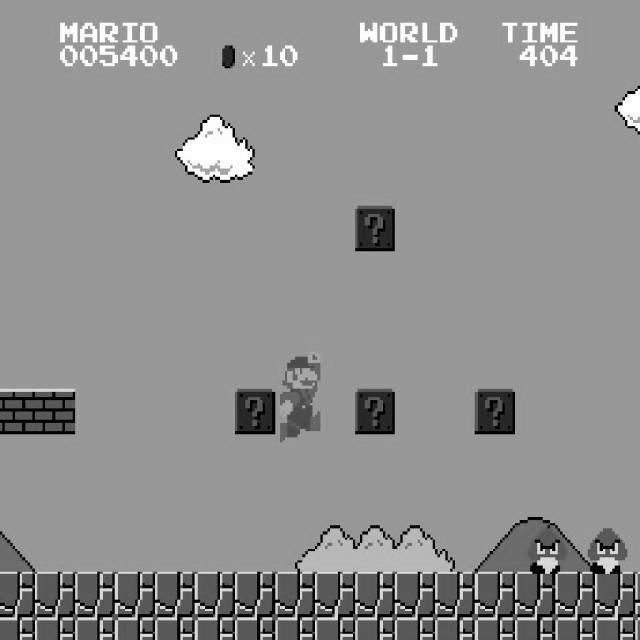0- big_mario: (277, 348, 320, 442)
1- brick_block: (34, 388, 76, 434), (0, 388, 35, 434)
13- mystery_block: (234, 388, 276, 434), (354, 388, 396, 434), (474, 388, 516, 434), (354, 206, 396, 251)
17- undestructible_block: (34, 572, 76, 618), (74, 572, 116, 618), (114, 572, 156, 618), (154, 572, 196, 618), (194, 572, 236, 618), (234, 572, 276, 618), (274, 572, 316, 618), (314, 572, 356, 618), (354, 572, 396, 618), (394, 572, 436, 618), (434, 572, 476, 618), (474, 572, 516, 618), (514, 572, 556, 618), (554, 572, 596, 618), (594, 572, 636, 618), (0, 572, 35, 618), (34, 617, 76, 640), (74, 617, 116, 640), (114, 617, 156, 640), (154, 617, 196, 640), (194, 617, 236, 640), (234, 617, 276, 640), (274, 617, 316, 640), (314, 617, 356, 640), (354, 617, 396, 640), (394, 617, 436, 640), (434, 617, 476, 640), (474, 617, 516, 640), (514, 617, 556, 640), (554, 617, 596, 640), (594, 617, 636, 640), (0, 617, 35, 640), (635, 572, 640, 618), (635, 617, 640, 640)
8- goomba: (525, 526, 568, 574), (585, 526, 628, 574)
